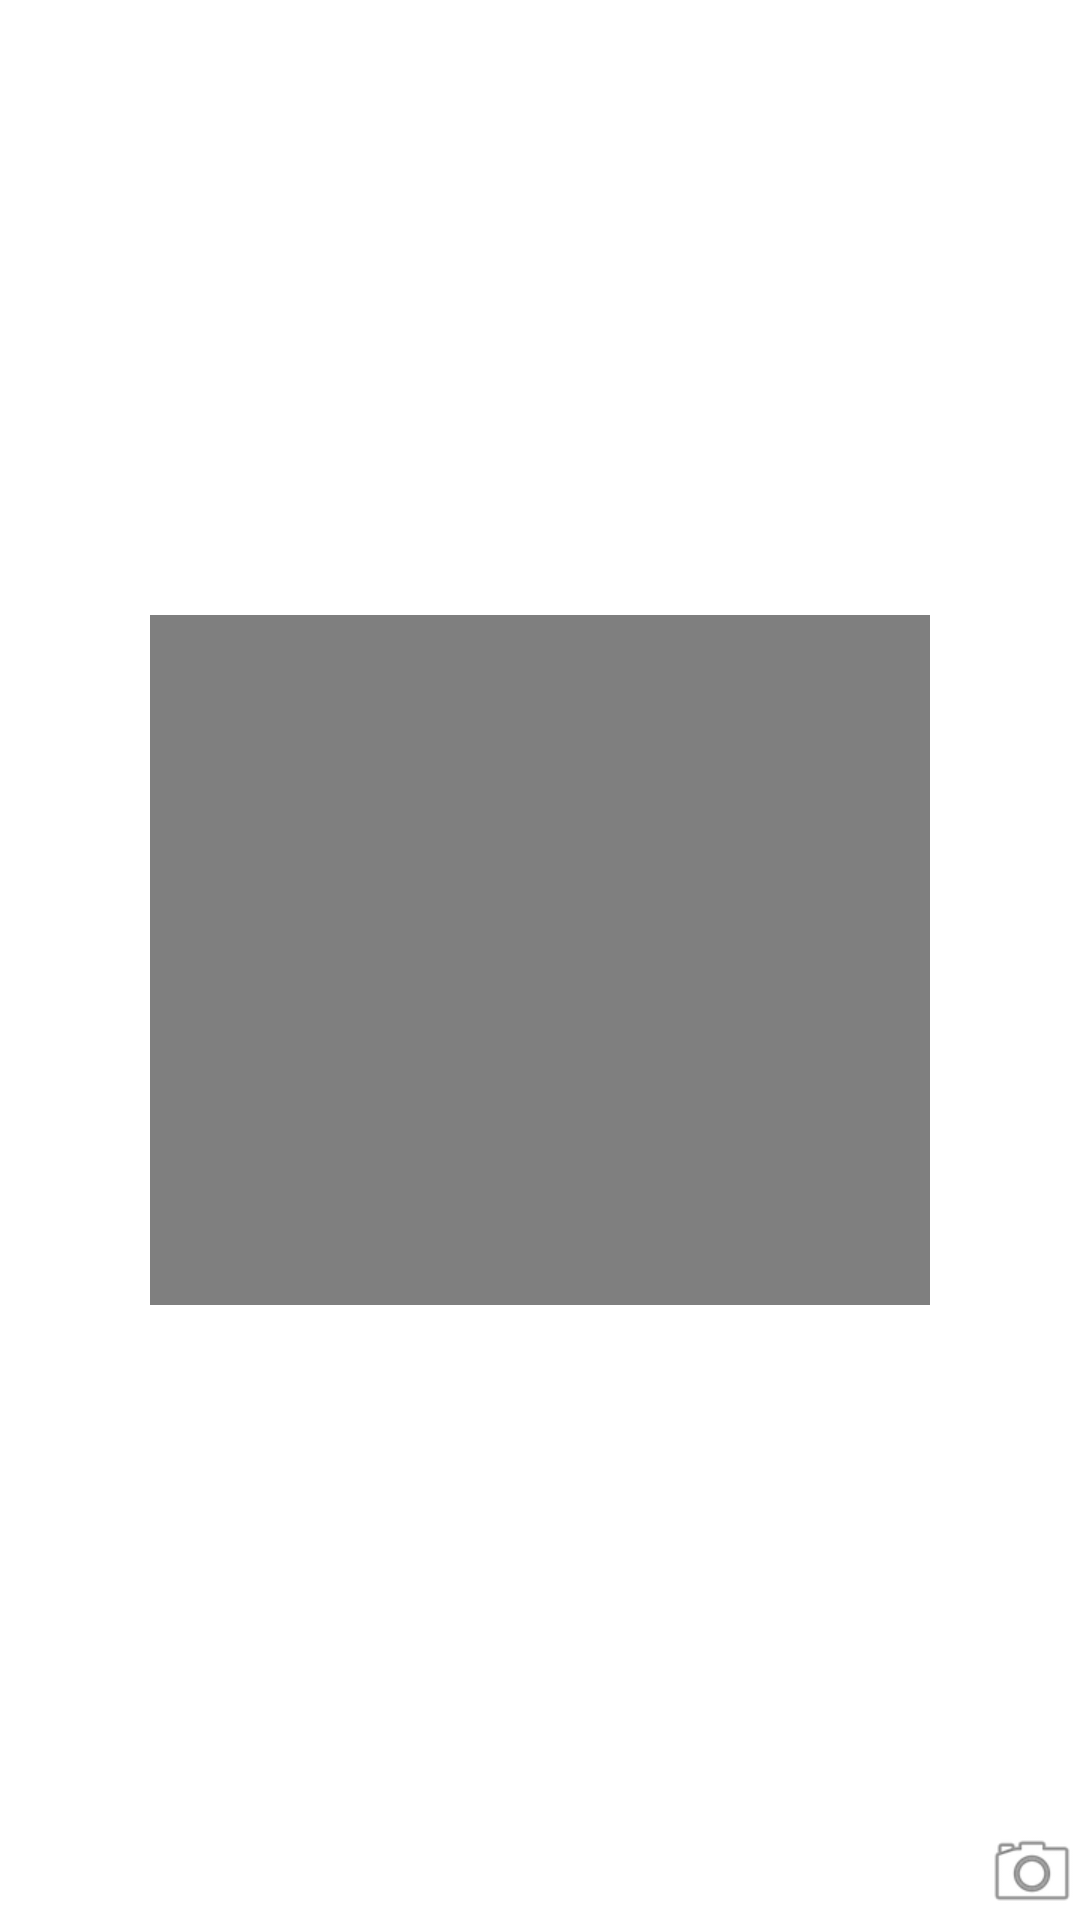

Icon click points for this 1080px x 1920px phone screenshot, format point (x, y):
camera: point (1032, 1870)
